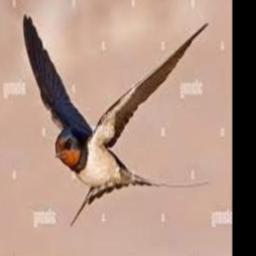Swallow: (22, 14, 209, 226)
